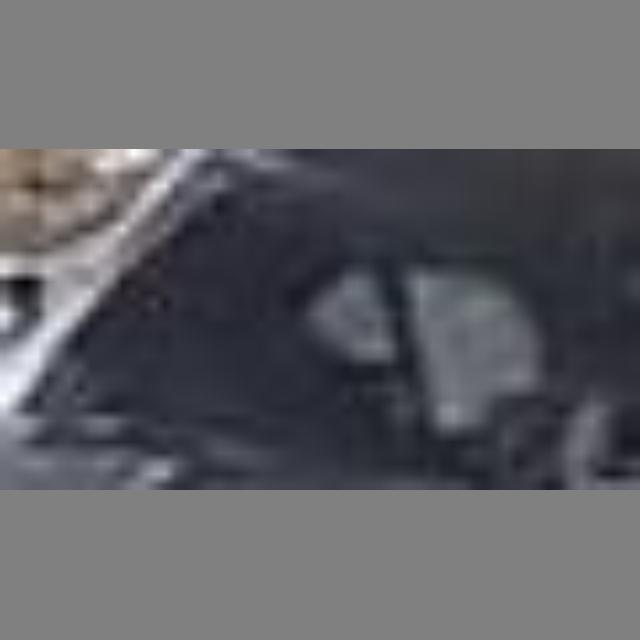pakai: (288, 234, 523, 458)
